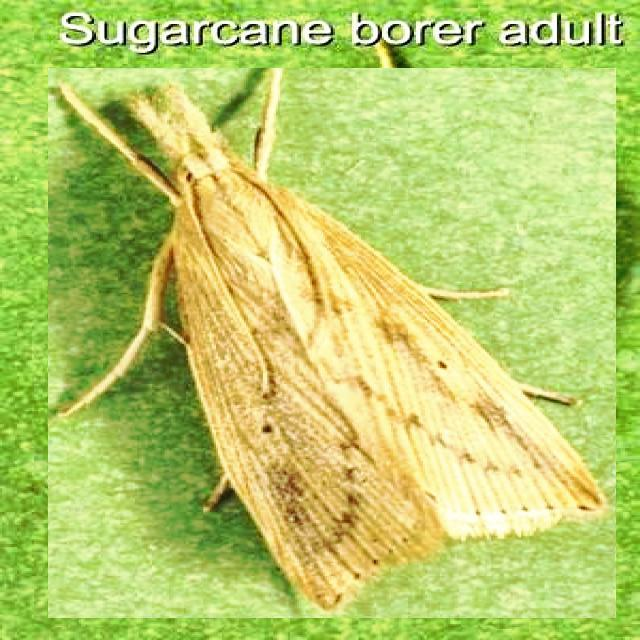stem-borer: (48, 68, 616, 618)
